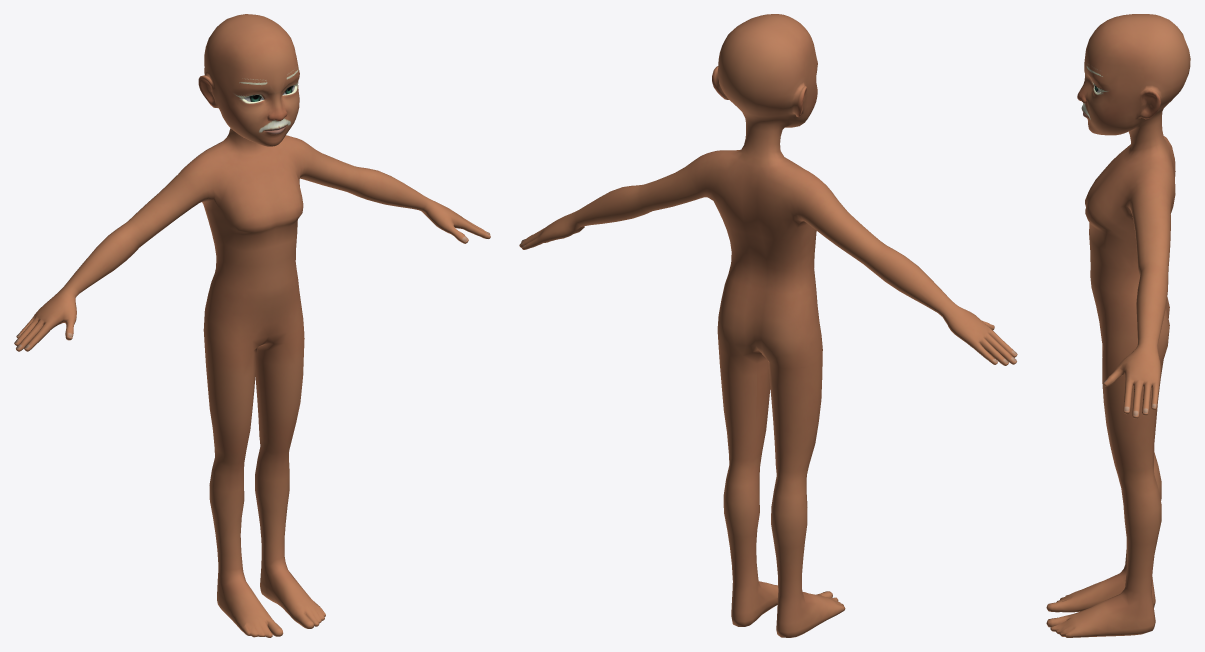
File: frame_0007.glb
3 renders of one model, left to right at view 1: azimuth 30°, elevation 25°; view 2: azimuth 150°, elevation 25°; view 3: azimuth 270°, elevation 25°, orthographic. The views are drawn at different scales.
Parts seen in each view (by area): view 1: frame_0007_head_geo; view 2: frame_0007_head_geo; view 3: frame_0007_head_geo.
Part boxes in pixels (left/top/right/bottom): frame_0007_head_geo: left=14, top=14, right=490, bottom=637; frame_0007_head_geo: left=519, top=14, right=1017, bottom=637; frame_0007_head_geo: left=1046, top=14, right=1190, bottom=637.
Bounding box in the file's own units: 1.28 × 1.5 × 0.3253.
Materials: 3 (3 with a texture image).
